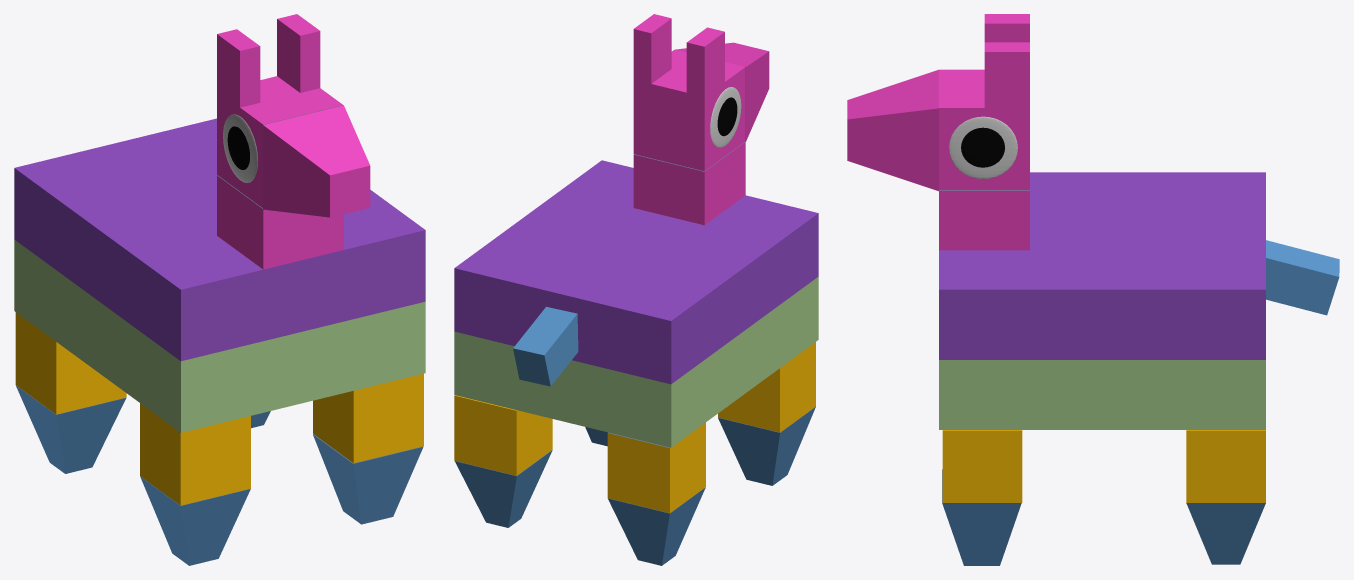
File: pinyata.fbx
The picture shows the model from 3 angles, left to right: view 1: azimuth 30°, elevation 25°; view 2: azimuth 150°, elevation 25°; view 3: azimuth 270°, elevation 25°; orthographic projection. The views are drawn at different scales.
Parts seen in each view (by area): view 1: 立方体.011; view 2: 立方体.011; view 3: 立方体.011.
Part boxes in pixels (box(x1,y1,x2,y2)): 立方体.011: box(14, 14, 425, 565); 立方体.011: box(454, 14, 818, 565); 立方体.011: box(847, 14, 1339, 565).
Bounding box in the file's own units: 697 × 1342 × 1236.
